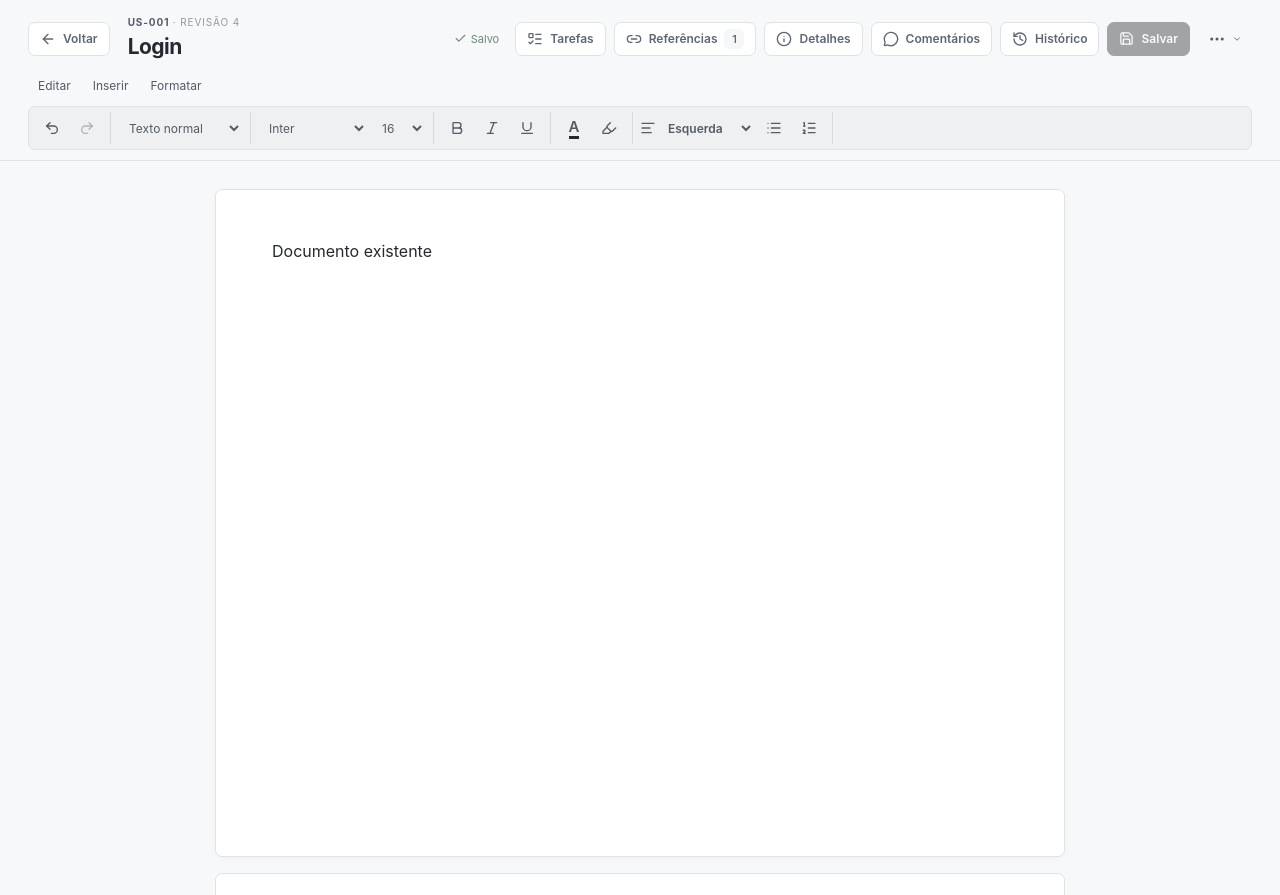
Test: requirement document workflow › shows edit mode to an OWNER
Expected: the field named "Título do requisito" is enabled, [128,31,436,61]
Click the button "Referências 1" at (685, 38), box [614,22,756,56]
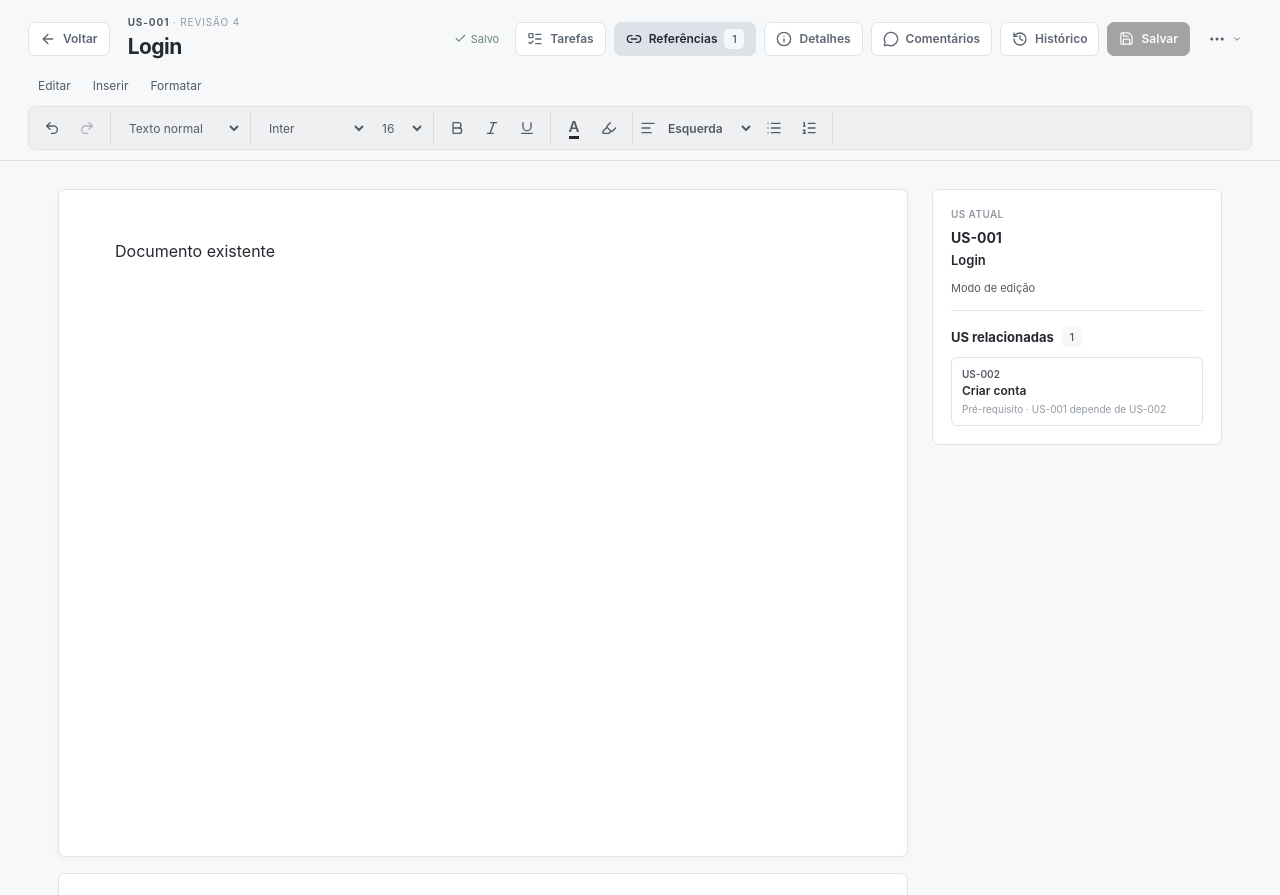
Result: the header with class "related-stories-heading" shows "Modo de edição" at [951,281,1035,295]
